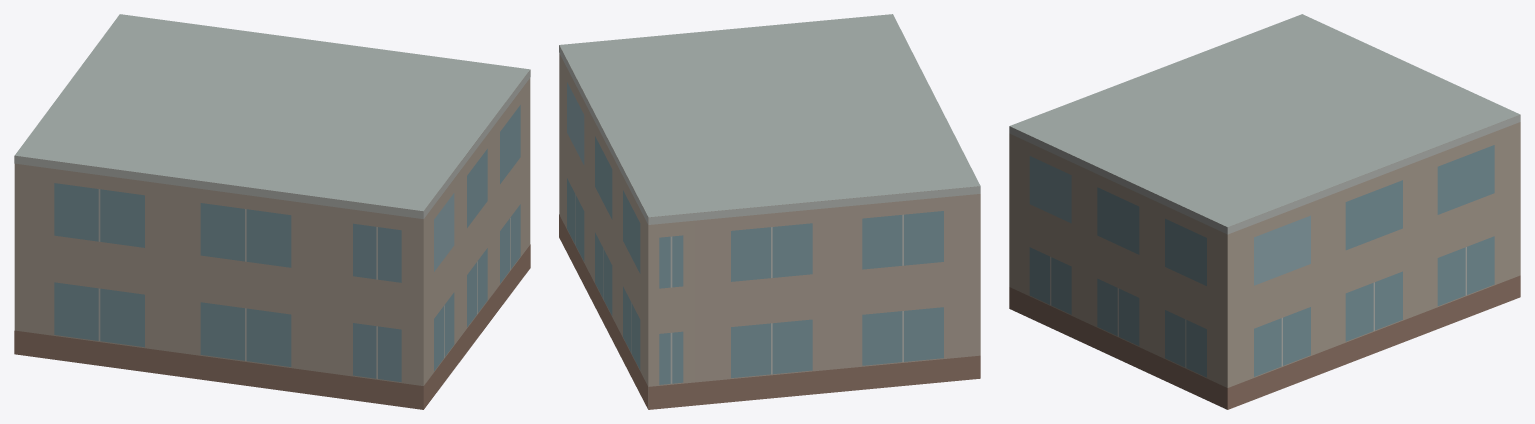
Rendered from survey-upis-32873187.glb.
3 views of the same model, side by side, from view 1: azimuth 30°, elevation 25°; view 2: azimuth 150°, elevation 25°; view 3: azimuth 270°, elevation 25° (orthographic). The views are drawn at different scales.
Visible parts, largest first — view 1: survey-upis-32873187.tmp; view 2: survey-upis-32873187.tmp; view 3: survey-upis-32873187.tmp.
Part boxes in pixels (box(x1,y1,x2,y2)): survey-upis-32873187.tmp: box(14, 14, 530, 409); survey-upis-32873187.tmp: box(559, 14, 980, 409); survey-upis-32873187.tmp: box(1009, 14, 1520, 409).
Size of the model in its own units: 15.29 by 6.1 by 15.49.
